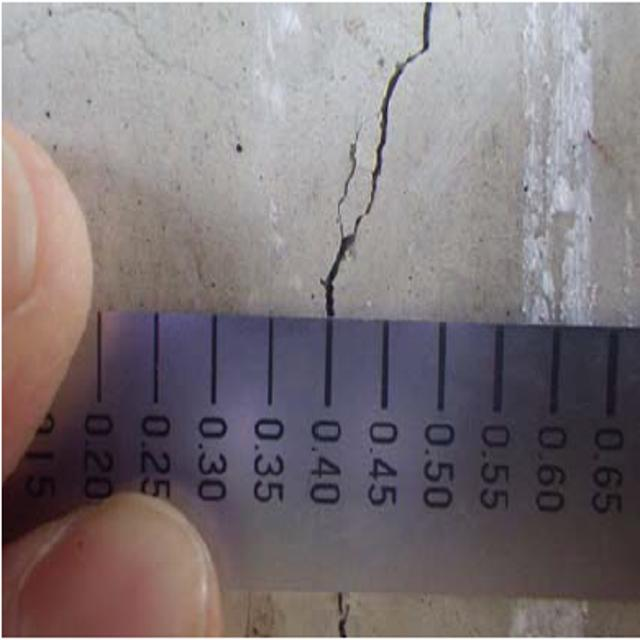crack: (314, 0, 437, 320), (307, 585, 394, 640)
